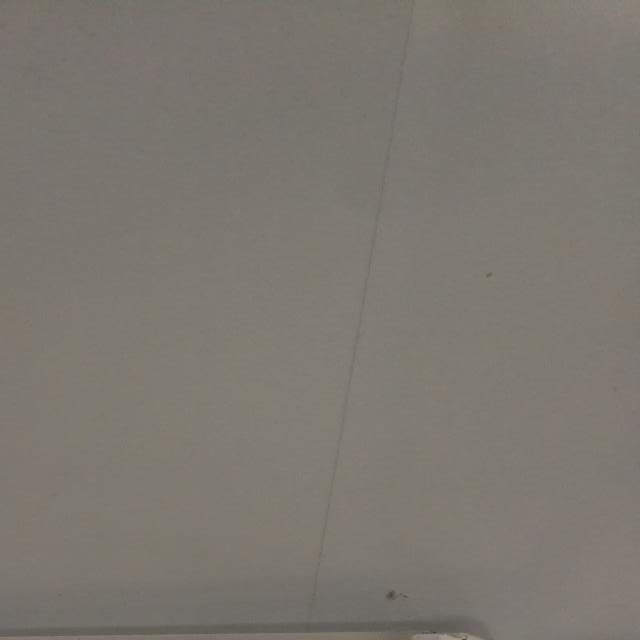fluorescent tube: (1, 593, 535, 640)
